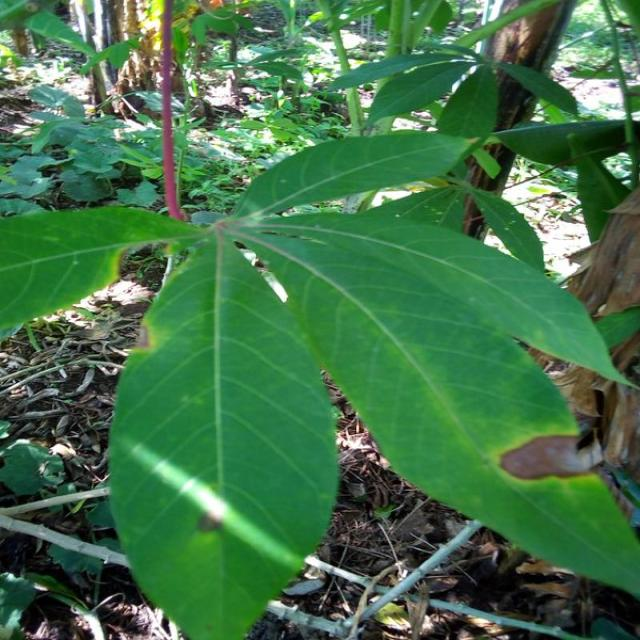cassava leaf: (226, 208, 638, 599), (106, 224, 341, 638)
